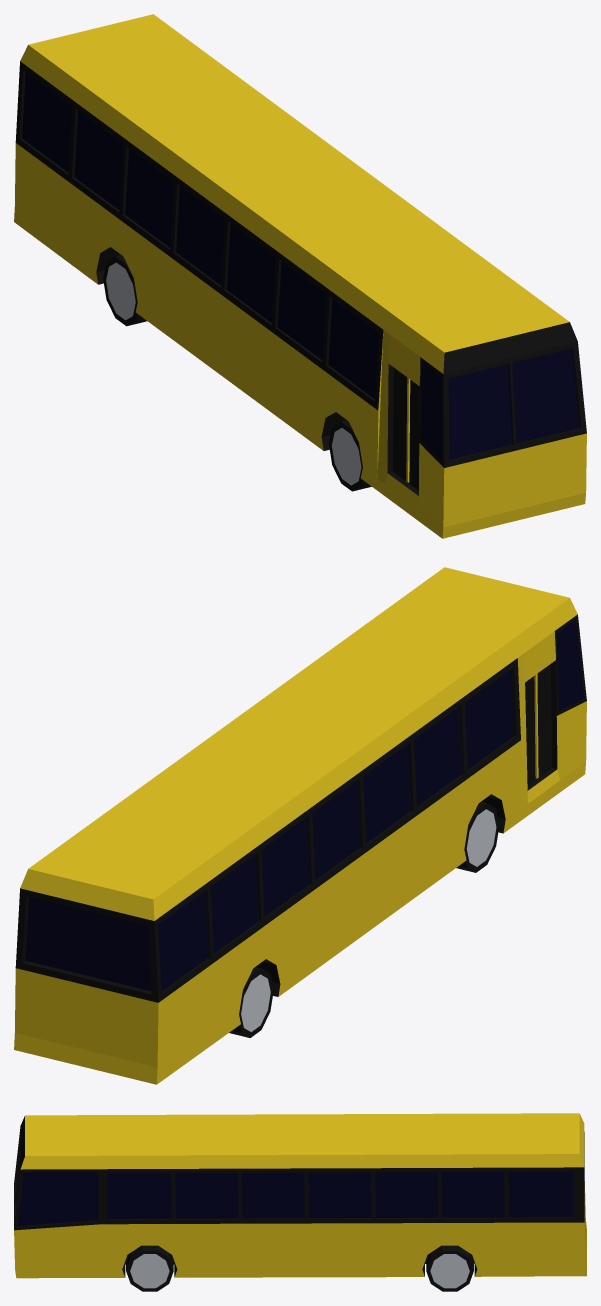
Rendered from onibus.glb.
3 views of the same model, one above another, from view 1: azimuth 30°, elevation 25°; view 2: azimuth 150°, elevation 25°; view 3: azimuth 270°, elevation 25° (orthographic). The views are drawn at different scales.
Visible parts, largest first — view 1: Onibus, Roda 2, Roda 1; view 2: Onibus, Roda 1, Roda 2; view 3: Onibus, Roda 4, Roda 3.
Part boxes in pixels (left/top/right/bottom): Onibus: left=14, top=14, right=586, bottom=538; Roda 2: left=103, top=255, right=146, bottom=326; Roda 1: left=328, top=420, right=371, bottom=491; Onibus: left=14, top=567, right=586, bottom=1084; Roda 1: left=456, top=801, right=499, bottom=872; Roda 2: left=229, top=967, right=273, bottom=1037; Onibus: left=14, top=1113, right=586, bottom=1278; Roda 4: left=126, top=1245, right=173, bottom=1291; Roda 3: left=426, top=1245, right=473, bottom=1291.
Bounding box in the file's own units: 2.5 × 3.43 × 13.05.
